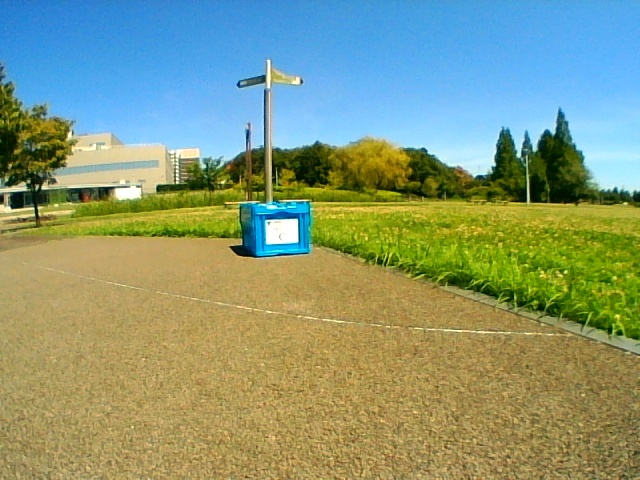blue_box: (242, 203, 309, 256)
tag: (266, 220, 296, 243)
